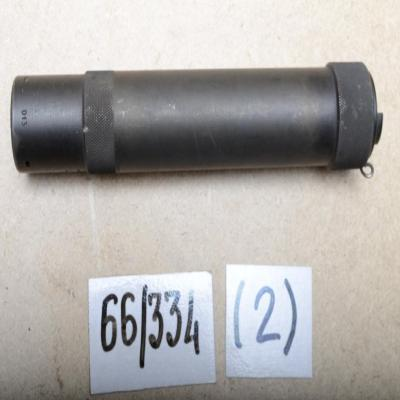weapon: (10, 62, 384, 178)
